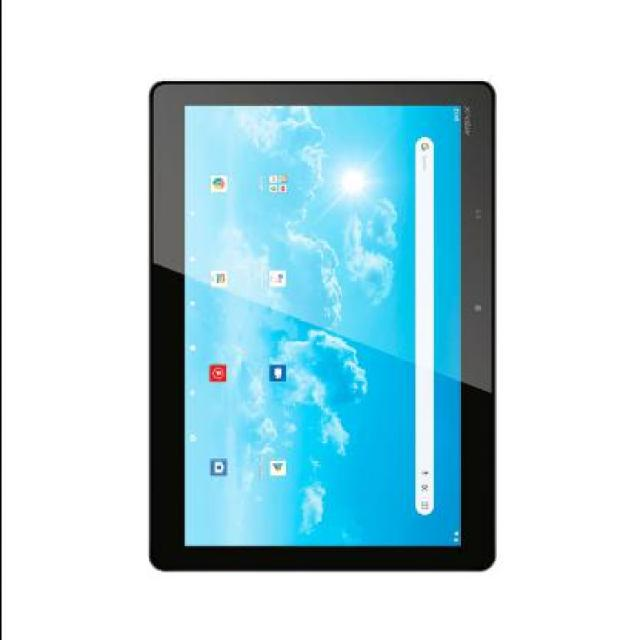tablet: (124, 36, 544, 598)
